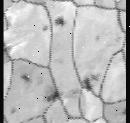good_void: (47, 86, 60, 102), (82, 77, 92, 92), (54, 16, 64, 27), (21, 72, 30, 84), (42, 24, 49, 33), (10, 108, 17, 114)
